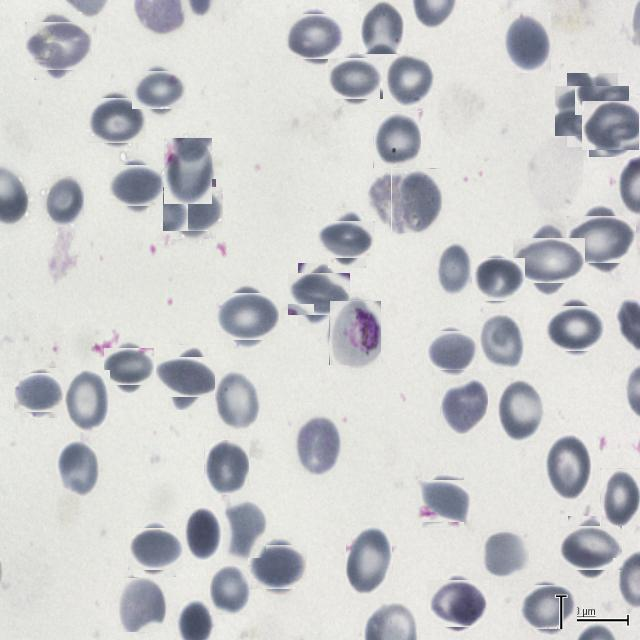difficult: (329, 300, 382, 365)
red blood cell: (562, 80, 624, 142), (520, 230, 578, 290), (573, 210, 631, 268), (29, 17, 87, 75), (391, 168, 442, 233), (545, 433, 592, 501), (164, 138, 212, 204), (220, 289, 276, 345), (346, 527, 392, 595), (585, 97, 640, 153), (496, 377, 544, 441), (563, 522, 617, 576), (431, 576, 485, 630), (294, 414, 341, 476), (504, 12, 551, 73), (64, 370, 110, 432), (89, 94, 142, 147), (292, 268, 346, 320), (214, 369, 260, 430), (440, 376, 488, 434), (288, 11, 341, 63), (162, 351, 214, 404), (168, 182, 220, 235), (373, 111, 421, 168), (252, 540, 304, 592), (550, 302, 602, 354), (522, 582, 574, 634), (117, 578, 167, 632), (386, 52, 434, 108), (478, 312, 524, 370), (223, 498, 266, 558), (204, 439, 249, 495), (56, 441, 100, 498), (130, 524, 180, 574), (359, 0, 405, 54), (112, 161, 161, 210), (600, 468, 640, 526), (474, 256, 522, 304), (419, 477, 467, 525), (323, 216, 371, 263), (332, 54, 379, 102), (481, 530, 528, 578), (136, 67, 182, 113), (185, 507, 223, 562), (44, 175, 84, 227), (429, 328, 475, 373), (16, 370, 61, 416), (210, 565, 250, 615), (436, 242, 473, 296), (106, 344, 150, 388)
